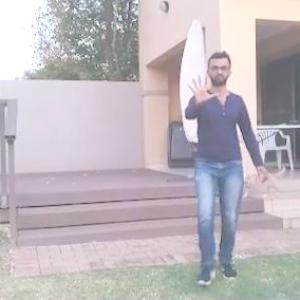follow_hand: (184, 69, 221, 110)
